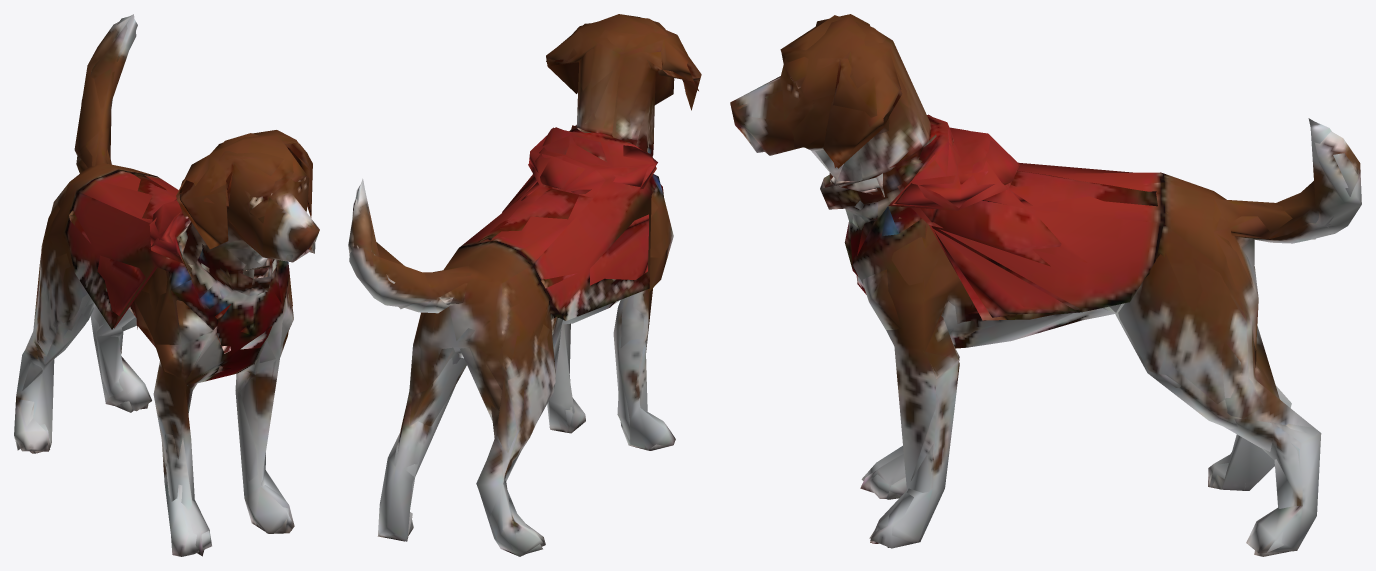
Rendered from detail_10_lo2.glb.
3 renders of one model, left to right at view 1: azimuth 30°, elevation 25°; view 2: azimuth 150°, elevation 25°; view 3: azimuth 270°, elevation 25°, orthographic. The views are drawn at different scales.
Parts seen in each view (by area): view 1: Mesh_0.001; view 2: Mesh_0.001; view 3: Mesh_0.001.
Boxes of the visible parts, x1,y1,x2,y2 form: Mesh_0.001: [14, 14, 319, 556]; Mesh_0.001: [348, 14, 701, 556]; Mesh_0.001: [730, 14, 1361, 556].
Size of the model in its own units: 0.3538 by 0.8448 by 0.9909.
1 material, 1 textured.
